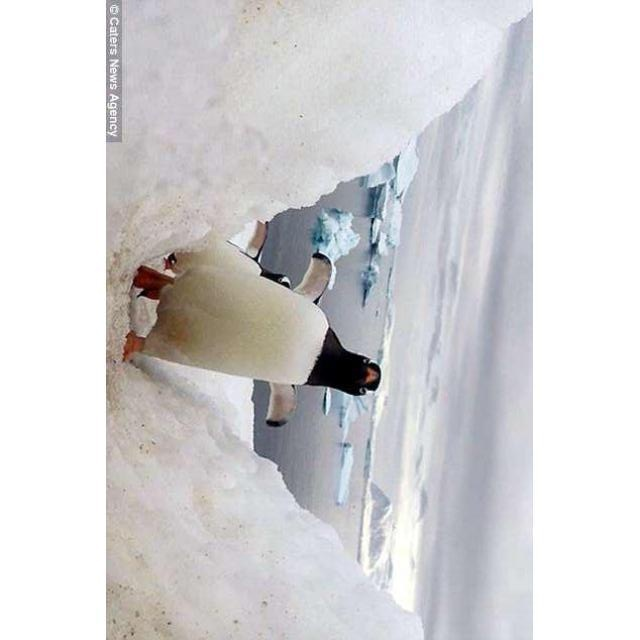penguin: (123, 251, 381, 429)
